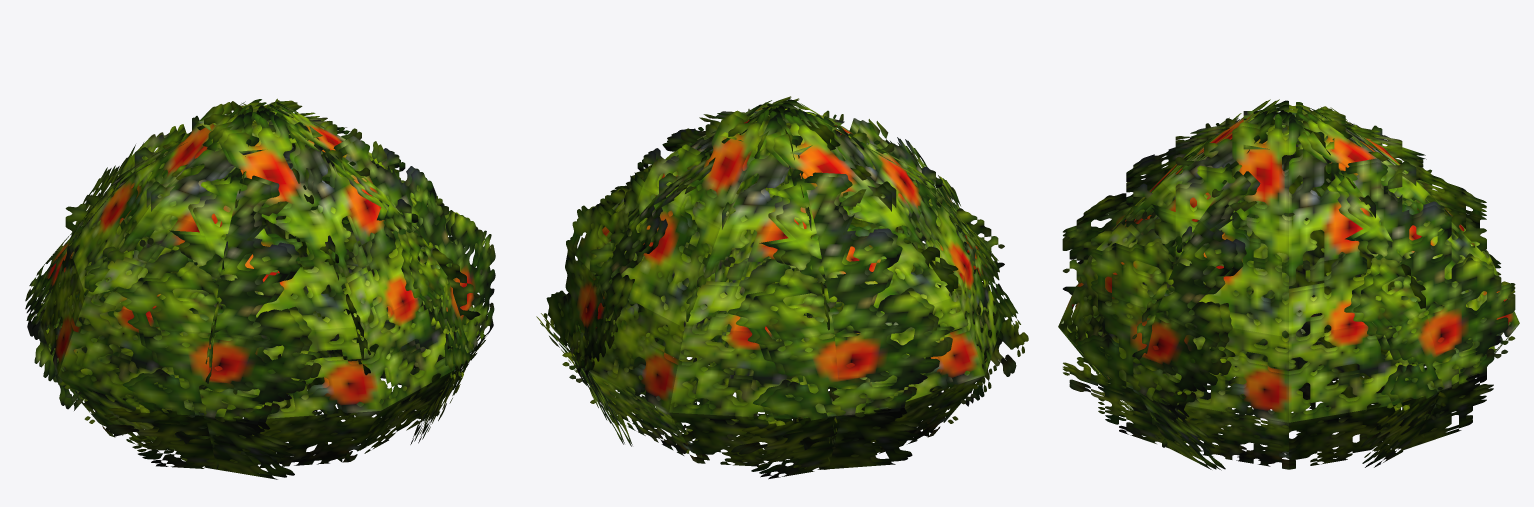
Rendered from jaswand_red_flowering_bush.glb.
3 renders of one model, left to right at view 1: azimuth 30°, elevation 25°; view 2: azimuth 150°, elevation 25°; view 3: azimuth 270°, elevation 25°, orthographic.
Visible parts, largest first — view 1: bush2; view 2: bush2; view 3: bush2.
Part boxes in pixels (x1,y1,x2,y2): bush2: (25,98,495,479); bush2: (536,96,1028,479); bush2: (1058,99,1519,470).
Bounding box in the file's own units: 1.02 × 0.7 × 1.02.
Materials: 1 (1 with a texture image).
